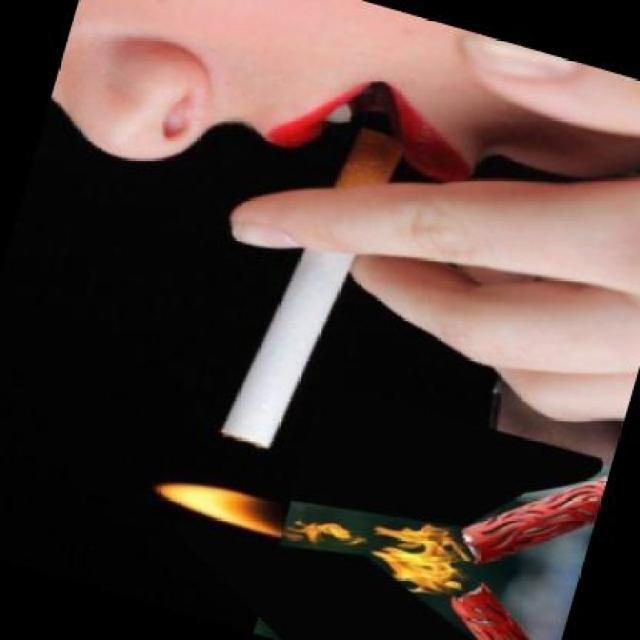cigarette: (214, 106, 411, 466)
